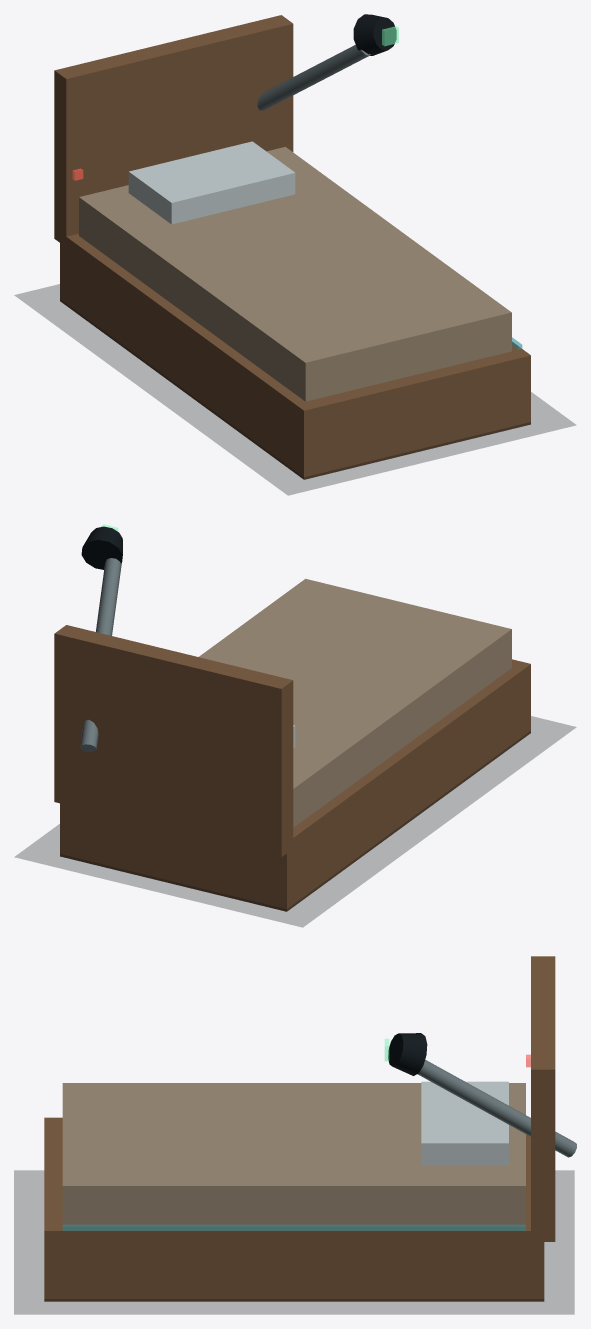
Rendered from hp_room_cyber_smart_bed_pod.glb.
3 renders of one model, top to bottom at view 1: azimuth 30°, elevation 25°; view 2: azimuth 150°, elevation 25°; view 3: azimuth 270°, elevation 25°, orthographic. The views are drawn at different scales.
Visible parts, largest first — view 1: mattress, bed_frame, headboard, contact_shadow, pillow, gantry_arm, gantry_head; view 2: headboard, mattress, bed_frame, contact_shadow, gantry_arm, gantry_head; view 3: mattress, bed_frame, contact_shadow, headboard, pillow, frame_cyan_seam, gantry_arm, gantry_head.
Boxes of the visible parts, x1,y1,x2,y2 form: mattress: (79, 147, 511, 401); bed_frame: (60, 232, 530, 479); headboard: (54, 15, 293, 242); contact_shadow: (14, 284, 575, 495); pillow: (128, 141, 295, 224); gantry_arm: (257, 44, 370, 110); gantry_head: (353, 14, 396, 55); headboard: (54, 625, 293, 857); mattress: (199, 578, 511, 827); bed_frame: (60, 659, 530, 911); contact_shadow: (15, 716, 575, 927); gantry_arm: (80, 558, 121, 752); gantry_head: (81, 526, 122, 569); mattress: (62, 1083, 525, 1225); bed_frame: (44, 1117, 544, 1301); contact_shadow: (14, 1170, 574, 1314); headboard: (531, 956, 555, 1241); pillow: (421, 1081, 508, 1165); frame_cyan_seam: (62, 1224, 525, 1230); gantry_arm: (417, 1059, 576, 1157); gantry_head: (388, 1033, 427, 1075).
Size of the model in its own units: 1.44 by 1.26 by 2.31.
